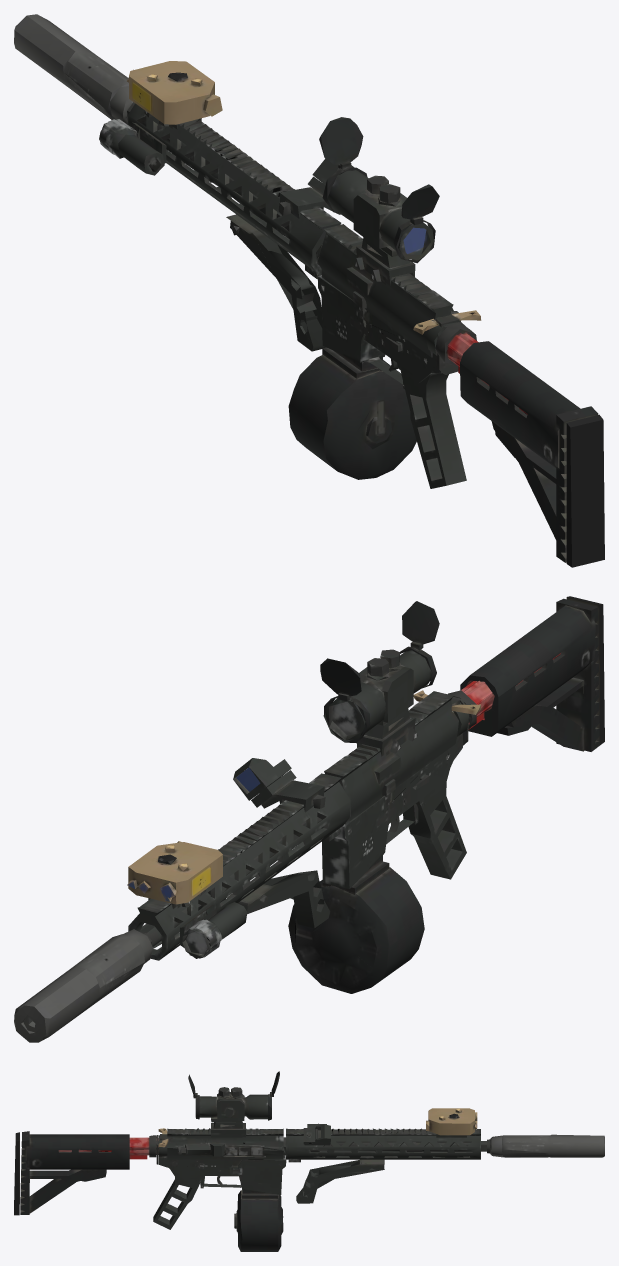
The model's file is fuzil_m4a1_tatico_leve.glb.
The picture shows the model from 3 angles, top to bottom: view 1: azimuth 30°, elevation 25°; view 2: azimuth 150°, elevation 25°; view 3: azimuth 270°, elevation 25°; orthographic projection. The views are drawn at different scales.
Visible parts, largest first — view 1: fuzil_m4a1_tatico_leve; view 2: fuzil_m4a1_tatico_leve; view 3: fuzil_m4a1_tatico_leve.
Boxes of the visible parts, box(x1,y1,x2,y2) form: fuzil_m4a1_tatico_leve: box(14, 14, 604, 567); fuzil_m4a1_tatico_leve: box(14, 596, 604, 1042); fuzil_m4a1_tatico_leve: box(14, 1071, 604, 1251).
Size of the model in its own units: 0.1208 by 0.331 by 1.01.
Materials: 1 (1 with a texture image).
